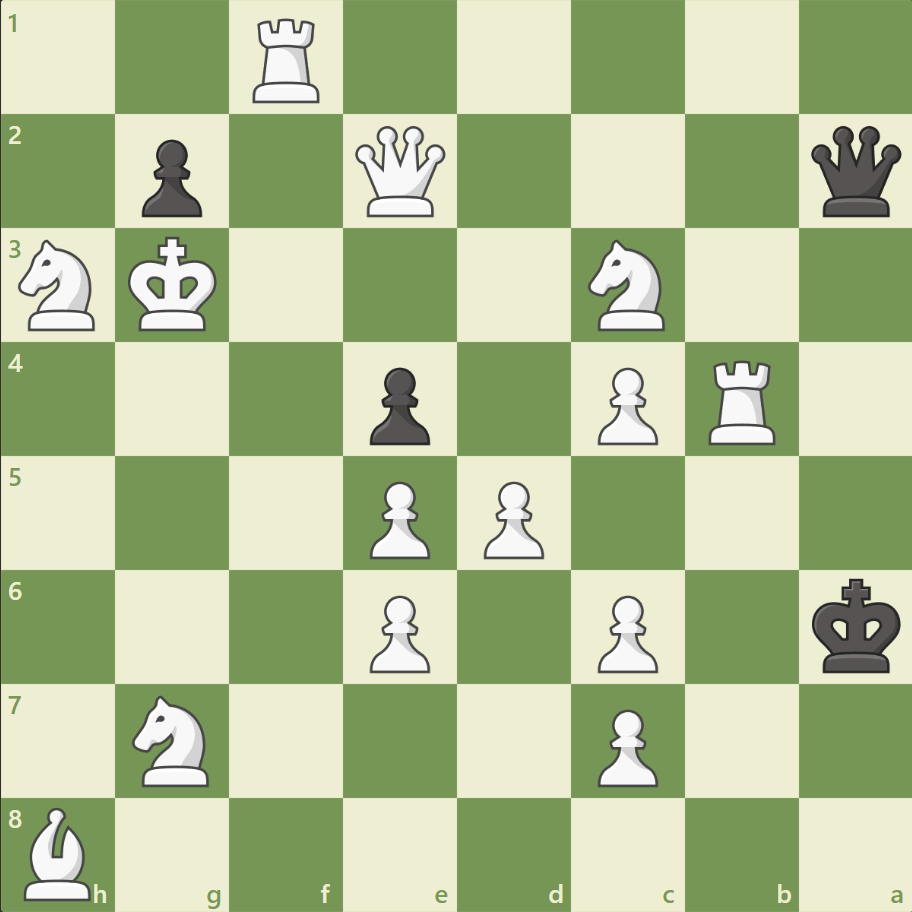B: (17, 801, 101, 904)
K: (124, 231, 224, 339)
N: (124, 688, 222, 791), (579, 234, 676, 337), (11, 234, 108, 337)
P: (474, 473, 549, 564), (588, 700, 662, 791), (588, 586, 662, 677), (361, 586, 435, 677), (361, 473, 435, 564), (588, 359, 662, 450)
Q: (351, 122, 450, 222)
R: (700, 352, 783, 449), (246, 12, 329, 109)
k: (806, 571, 906, 679)
p: (133, 132, 208, 223), (361, 359, 435, 450)
q: (805, 122, 904, 222)
